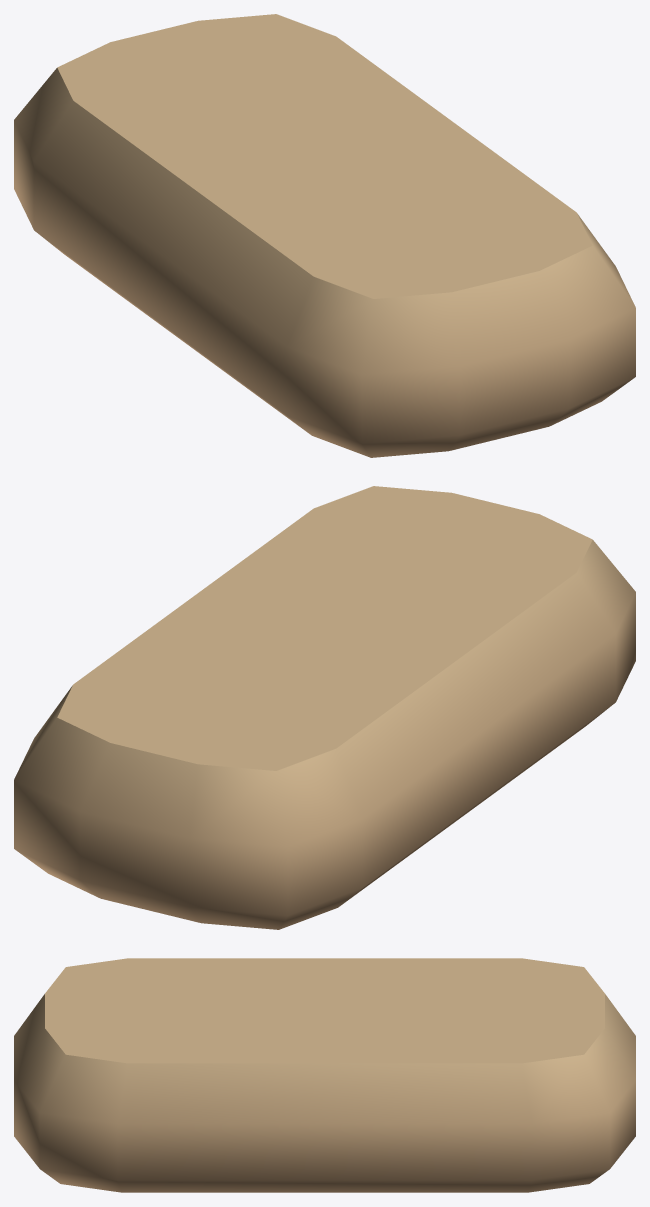
Rendered from pillow-wide-round-laying.glb.
The picture shows the model from 3 angles, top to bottom: view 1: azimuth 30°, elevation 25°; view 2: azimuth 150°, elevation 25°; view 3: azimuth 270°, elevation 25°; orthographic projection. The views are drawn at different scales.
Visible parts, largest first — view 1: pillow-wide-round-laying; view 2: pillow-wide-round-laying; view 3: pillow-wide-round-laying.
Part boxes in pixels (box(x1,y1,x2,y2)): pillow-wide-round-laying: box(14, 14, 635, 457); pillow-wide-round-laying: box(14, 486, 635, 929); pillow-wide-round-laying: box(14, 958, 635, 1192).
Size of the model in its own units: 0.3 by 0.1352 by 0.6.
